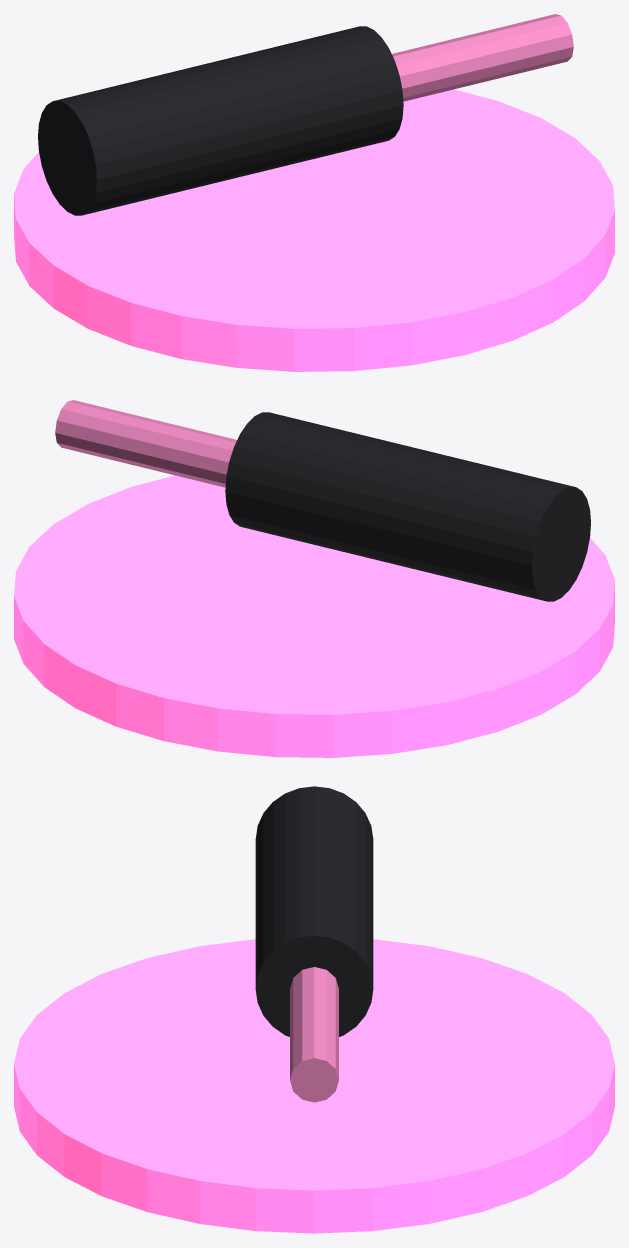
Rendered from beauty_mascara.glb.
3 views of the same model, one above another, from view 1: azimuth 30°, elevation 25°; view 2: azimuth 150°, elevation 25°; view 3: azimuth 270°, elevation 25° (orthographic).
Parts seen in each view (by area): view 1: 03_07_Popular_Beauty_Mascara_ROOT_base, 03_07_Popular_Beauty_Mascara_part_01, 03_07_Popular_Beauty_Mascara_part_02; view 2: 03_07_Popular_Beauty_Mascara_ROOT_base, 03_07_Popular_Beauty_Mascara_part_01, 03_07_Popular_Beauty_Mascara_part_02; view 3: 03_07_Popular_Beauty_Mascara_ROOT_base, 03_07_Popular_Beauty_Mascara_part_01, 03_07_Popular_Beauty_Mascara_part_02.
Part boxes in pixels (x1,y1,x2,y2): 03_07_Popular_Beauty_Mascara_ROOT_base: (14,89,614,371); 03_07_Popular_Beauty_Mascara_part_01: (38,26,403,215); 03_07_Popular_Beauty_Mascara_part_02: (392,14,573,101); 03_07_Popular_Beauty_Mascara_ROOT_base: (14,475,614,757); 03_07_Popular_Beauty_Mascara_part_01: (225,412,590,601); 03_07_Popular_Beauty_Mascara_part_02: (55,400,236,487); 03_07_Popular_Beauty_Mascara_ROOT_base: (14,939,614,1233); 03_07_Popular_Beauty_Mascara_part_01: (255,786,373,1036); 03_07_Popular_Beauty_Mascara_part_02: (290,967,338,1102).
Bounding box in the file's own units: 0.76 × 0.279 × 0.76.
